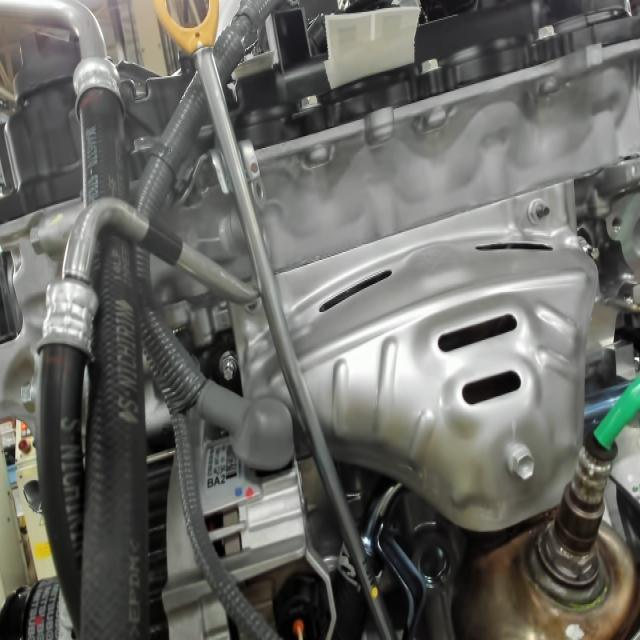Alternator-BA2: (205, 459, 238, 494)
Hose Discharge-HT: (135, 218, 186, 268)
